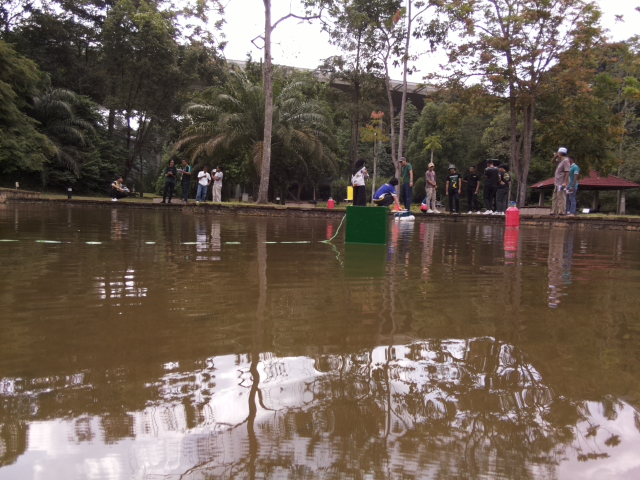obstacle: (344, 205, 390, 246)
